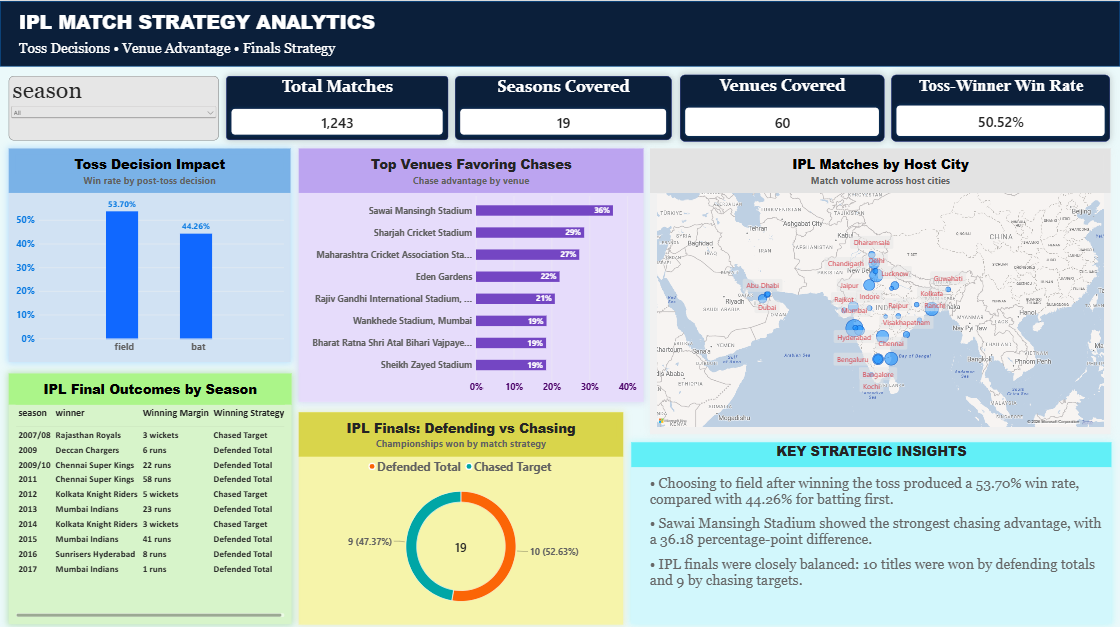

This screenshot's page, from the dashboard's own definition file:
{"tool":"powerbi","page":{"name":"Match strategy","canvas":[2560,1440],"ordinal":0},"visuals":[{"type":"cardVisual","title":"Seasons Covered","fields":{"Data":["ipl_analytics matches.Seasons covered"]},"box":[1041.1,170.7,495.1,146.3],"z":0},{"type":"cardVisual","title":"Venues Covered","fields":{"Data":["ipl_analytics matches.Venues Covered"]},"box":[1553.1,167.5,467.5,152.5],"z":1000},{"type":"cardVisual","title":"Toss-Winner Win Rate","fields":{"Data":["ipl_analytics matches.Toss winner win%"]},"box":[2037.5,167.5,500,152.5],"z":2000},{"type":"clusteredColumnChart","title":"Toss Decision Impact","fields":{"Category":["ipl_analytics matches.toss_decision"],"Y":["ipl_analytics matches.Toss Decision Win %"]},"box":[20.6,338.2,644.1,488.2],"z":3000},{"type":"clusteredBarChart","title":"Top Venues Favoring Chases","fields":{"Category":["ipl_analytics venue_stats.venue"],"Y":["ipl_analytics venue_stats.Chase Advantage %"]},"box":[682.4,338.2,788.2,579.4],"z":4000},{"type":"donutChart","title":"IPL Finals: Defending vs Chasing","fields":{"Category":["ipl_analytics matches.Winning Strategy"],"Y":["ipl_analytics matches.Total Matches"]},"box":[682.9,939,741.5,485.4],"z":5000},{"type":"tableEx","title":"IPL Final Outcomes by Season","fields":{"Values":["ipl_analytics matches.season","ipl_analytics matches.winner","ipl_analytics matches.Winning Margin","ipl_analytics matches.Winning Strategy"]},"box":[19.5,851.2,646.3,573.2],"z":6000},{"type":"map","title":"IPL Matches by Host City","fields":{"Category":["ipl_analytics matches.city"],"Size":["ipl_analytics matches.Total Matches"]},"box":[1485.3,338.2,1052.9,652.9],"z":7000},{"type":"shape","title":"IPL MATCH STRATEGY ANALYTICS","box":[0,0,2560.1,149.6],"z":8000},{"type":"textbox","box":[43.4,18.1,1415.2,101.3],"z":9000},{"type":"textbox","box":[43.4,88.7,785.4,48.9],"z":10000},{"type":"textbox","title":"KEY STRATEGIC INSIGHTS","box":[1441.5,1009.8,1097.6,414.6],"z":11000},{"type":"cardVisual","title":"Total Matches","fields":{"Data":["ipl_analytics matches.Total Matches Display"]},"box":[516.9,170.7,507.3,146.3],"z":12000},{"type":"slicer","title":"Season","fields":{"Values":["ipl_analytics matches.season"]},"box":[20,172.5,480,147.5],"z":13000}]}

Visuals, with their boxes in screenshot pixels (x1, y1, x2, y2), scaled from the page's 2560x1440 canvas onto the 1120x627 screenshot:
"Seasons Covered" cardVisual: locate(455, 74, 672, 138)
"Venues Covered" cardVisual: locate(679, 73, 884, 139)
"Toss-Winner Win Rate" cardVisual: locate(891, 73, 1110, 139)
"Toss Decision Impact" clusteredColumnChart: locate(9, 147, 291, 360)
"Top Venues Favoring Chases" clusteredBarChart: locate(299, 147, 643, 400)
"IPL Finals: Defending vs Chasing" donutChart: locate(299, 409, 623, 620)
"IPL Final Outcomes by Season" tableEx: locate(9, 371, 291, 620)
"IPL Matches by Host City" map: locate(650, 147, 1110, 432)
"IPL MATCH STRATEGY ANALYTICS" shape: locate(0, 0, 1119, 65)
textbox: locate(19, 8, 638, 52)
textbox: locate(19, 39, 363, 60)
"KEY STRATEGIC INSIGHTS" textbox: locate(631, 440, 1111, 620)
"Total Matches" cardVisual: locate(226, 74, 448, 138)
"Season" slicer: locate(9, 75, 219, 139)
